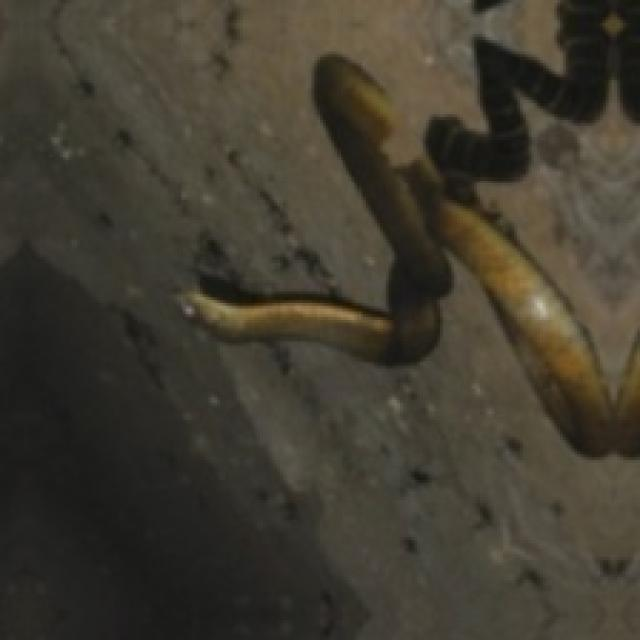king cobra: (180, 0, 637, 454)
